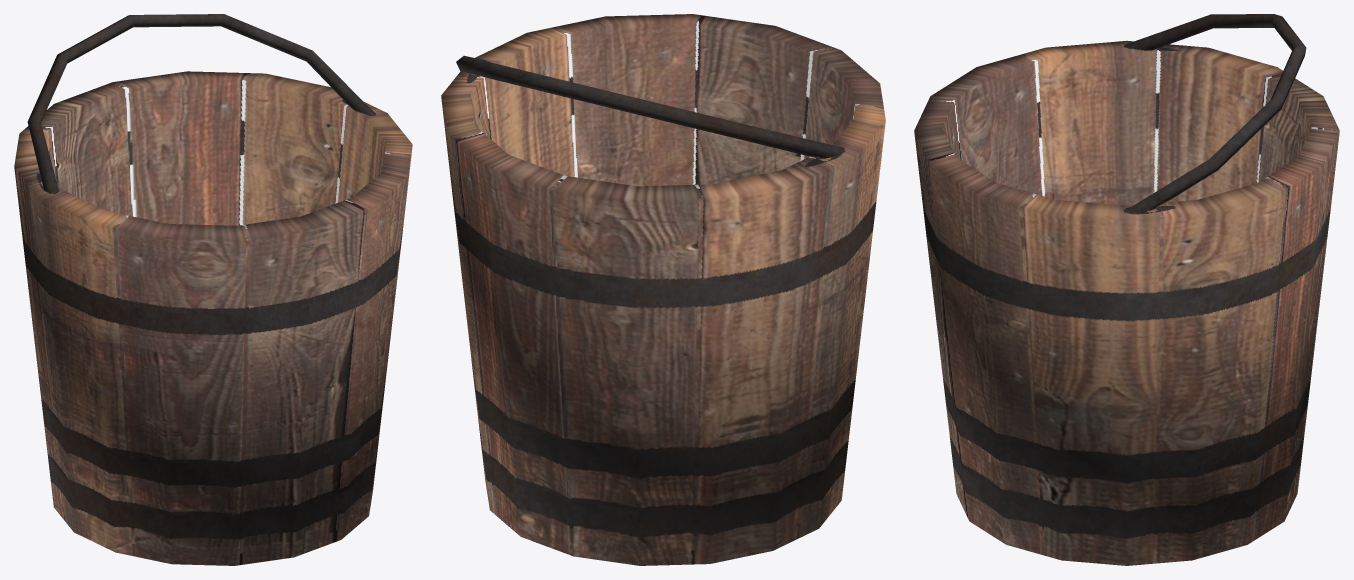
File: balde.fbx
The picture shows the model from 3 angles, left to right: view 1: azimuth 30°, elevation 25°; view 2: azimuth 150°, elevation 25°; view 3: azimuth 270°, elevation 25°; orthographic projection. The views are drawn at different scales.
Visible parts, largest first — view 1: balde; view 2: balde; view 3: balde.
Part boxes in pixels (bbox=[...]): balde: bbox=[14, 14, 412, 565]; balde: bbox=[441, 14, 885, 565]; balde: bbox=[914, 14, 1339, 565].
Size of the model in its own units: 43.43 by 50.62 by 43.43.
